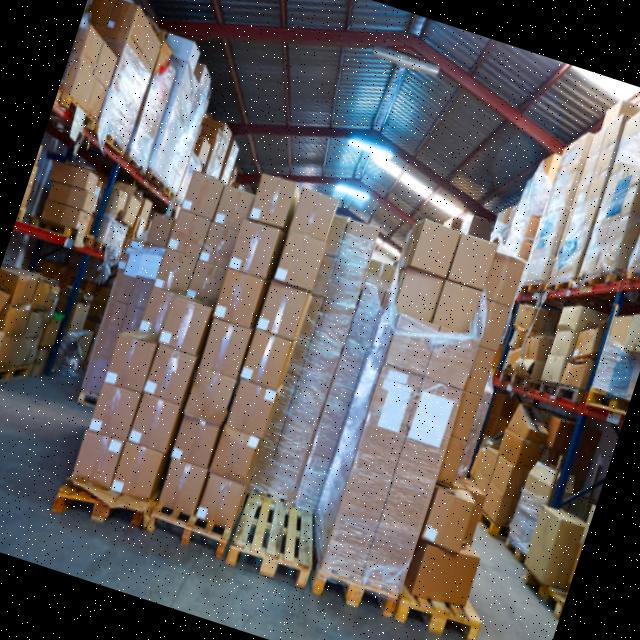Wooden-Pallets: (46, 485, 479, 640)
